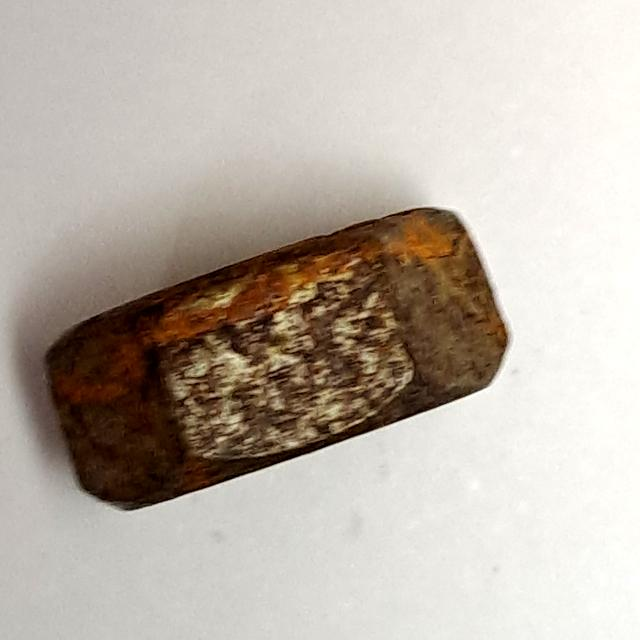Side_Rust: (32, 184, 539, 535)
